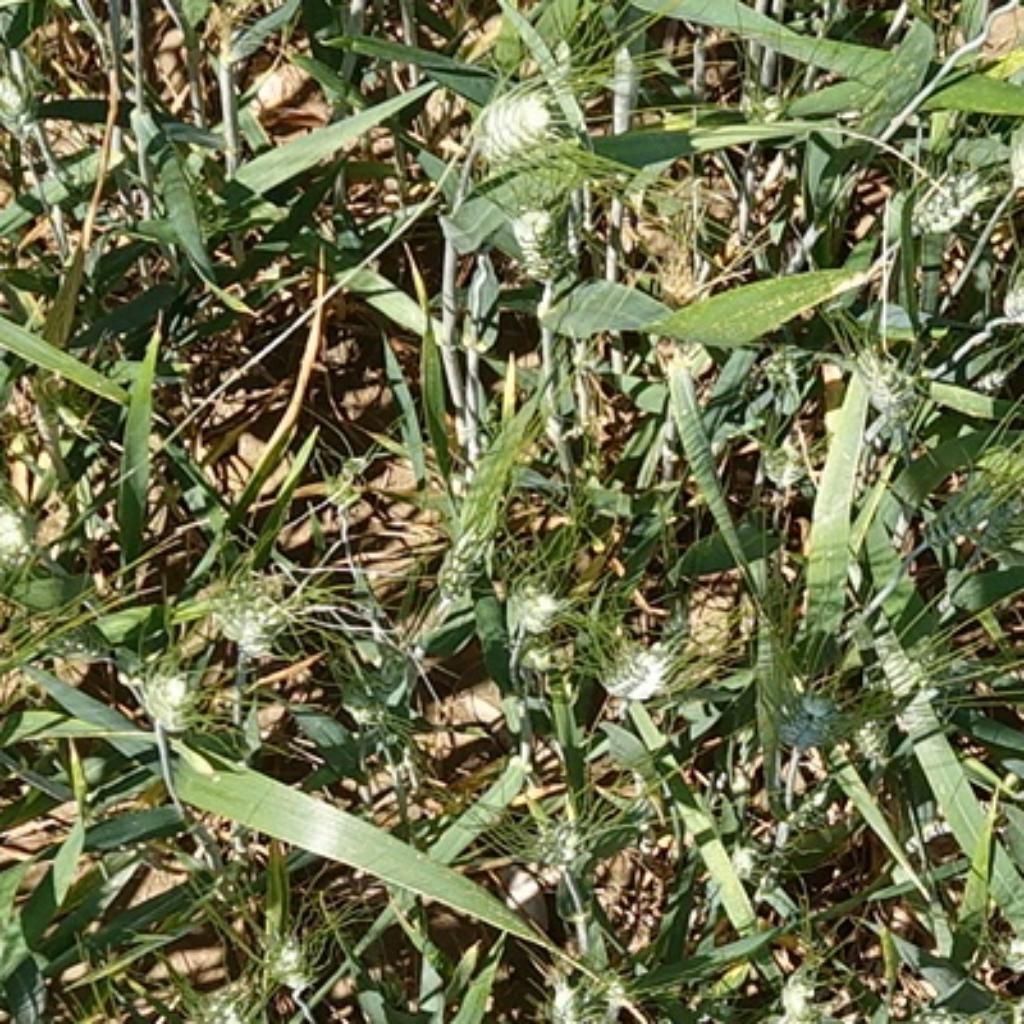0-0: (186, 550, 304, 652), (844, 330, 931, 440), (460, 71, 558, 161), (911, 471, 1016, 555), (117, 642, 207, 732), (537, 947, 629, 1024), (907, 159, 993, 239), (483, 560, 568, 640), (443, 495, 511, 594), (599, 624, 675, 709), (507, 200, 578, 284), (179, 962, 273, 1024), (253, 916, 322, 995), (776, 681, 837, 762), (519, 809, 588, 876), (750, 422, 814, 488), (770, 958, 829, 1019), (985, 245, 1024, 337), (757, 340, 814, 394), (2, 64, 38, 148), (998, 97, 1024, 186), (732, 95, 787, 132), (716, 837, 760, 881), (996, 927, 1024, 974)
